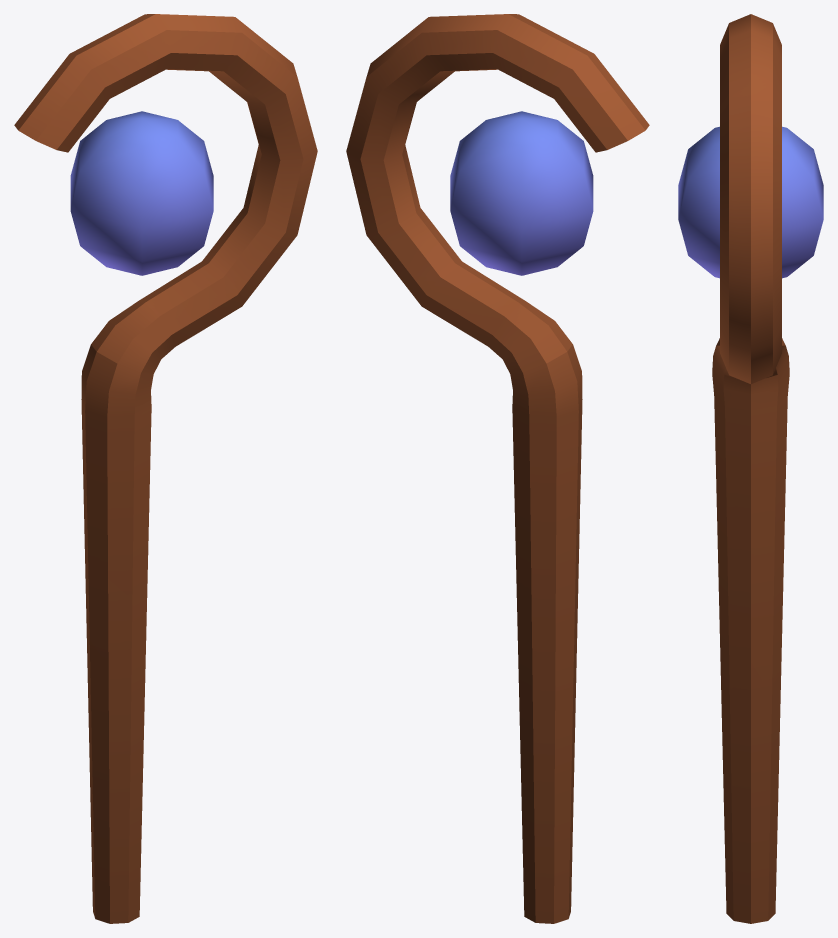
The model's file is Weapon_staff.fbx.
The picture shows the model from 3 angles, left to right: view 1: azimuth 30°, elevation 25°; view 2: azimuth 150°, elevation 25°; view 3: azimuth 270°, elevation 25°; orthographic projection.
Parts seen in each view (by area): view 1: Staff; view 2: Staff; view 3: Staff.
Boxes of the visible parts, box(x1,y1,x2,y2) form: Staff: box(14, 14, 317, 923); Staff: box(346, 14, 649, 923); Staff: box(678, 14, 823, 923).
Size of the model in its own units: 63.82 by 183 by 26.69.
